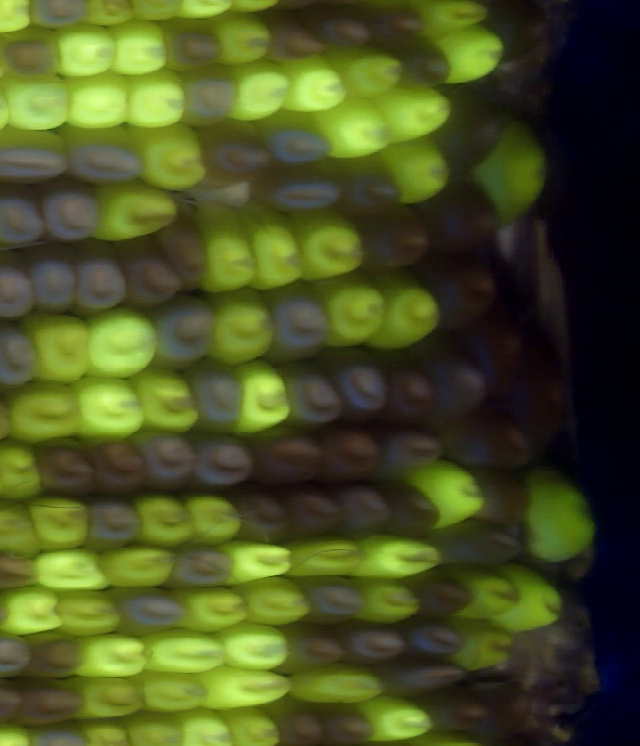fluorescent: (465, 110, 550, 236), (516, 464, 602, 570), (78, 175, 188, 250), (481, 559, 570, 640), (364, 267, 445, 355), (282, 203, 370, 284), (235, 202, 310, 296), (311, 266, 391, 354), (191, 198, 263, 295), (202, 282, 281, 366), (128, 118, 214, 195), (81, 302, 165, 380), (406, 455, 485, 535), (15, 309, 95, 388), (435, 611, 529, 678), (310, 93, 395, 166), (222, 355, 295, 439), (383, 129, 456, 211), (0, 379, 95, 442), (371, 77, 457, 145), (272, 49, 355, 119), (71, 373, 151, 445), (324, 40, 413, 104), (441, 559, 525, 626), (129, 364, 204, 439), (348, 529, 449, 584), (285, 659, 390, 709), (225, 57, 300, 126), (0, 69, 78, 133), (135, 624, 227, 678), (60, 69, 135, 135), (435, 19, 508, 86), (355, 690, 444, 744), (234, 573, 318, 630), (96, 540, 186, 593), (128, 483, 198, 551), (201, 662, 299, 710), (25, 489, 96, 554), (124, 67, 191, 135), (67, 671, 149, 726), (49, 583, 129, 639), (173, 580, 253, 635), (215, 537, 303, 587), (31, 543, 112, 597), (285, 532, 369, 584), (208, 6, 278, 68), (213, 620, 298, 671), (52, 20, 125, 79), (74, 629, 152, 684), (131, 666, 215, 717), (102, 16, 170, 79), (175, 489, 245, 545), (353, 572, 425, 626), (0, 584, 69, 637), (409, 1, 496, 39), (218, 701, 289, 746), (0, 438, 49, 502), (0, 496, 46, 559), (121, 708, 191, 746), (176, 704, 237, 746), (79, 1, 137, 31), (0, 1, 37, 41), (0, 719, 37, 746)
nonfluorescent: (410, 177, 507, 266), (409, 248, 503, 336), (411, 333, 492, 434), (502, 348, 574, 455), (431, 85, 511, 179), (467, 300, 534, 404), (350, 201, 440, 278), (260, 276, 336, 365), (54, 121, 154, 188), (437, 409, 540, 473), (424, 518, 527, 579), (182, 424, 265, 498), (154, 199, 217, 296), (308, 416, 393, 486), (111, 235, 185, 315), (149, 289, 222, 369), (325, 344, 397, 425), (245, 425, 332, 491), (177, 357, 251, 434), (254, 109, 343, 173), (278, 353, 350, 432), (61, 238, 131, 319), (464, 673, 548, 740), (327, 155, 414, 219), (256, 160, 352, 218), (475, 1, 558, 67), (375, 346, 443, 425), (80, 431, 156, 501), (130, 423, 205, 493), (35, 175, 106, 248), (195, 119, 281, 179), (28, 432, 105, 498), (467, 459, 535, 532), (378, 34, 459, 95), (255, 5, 332, 68), (291, 570, 370, 631), (272, 620, 353, 679), (175, 60, 243, 128), (374, 657, 476, 702), (0, 124, 74, 186), (159, 11, 227, 77), (24, 242, 82, 319), (402, 565, 480, 622), (230, 487, 301, 549), (377, 424, 444, 489), (109, 583, 191, 636), (280, 484, 351, 545), (377, 477, 447, 538), (411, 684, 496, 734), (328, 479, 395, 542), (0, 24, 68, 85), (16, 676, 94, 729), (162, 540, 239, 593), (332, 617, 412, 668), (0, 179, 51, 257), (348, 1, 432, 48), (22, 624, 89, 681), (80, 496, 149, 551), (260, 696, 331, 746), (310, 698, 383, 746), (302, 6, 377, 52), (400, 614, 470, 661), (0, 317, 41, 393), (0, 247, 40, 323), (24, 1, 95, 33), (0, 547, 45, 590), (0, 628, 36, 681), (0, 673, 33, 729)
